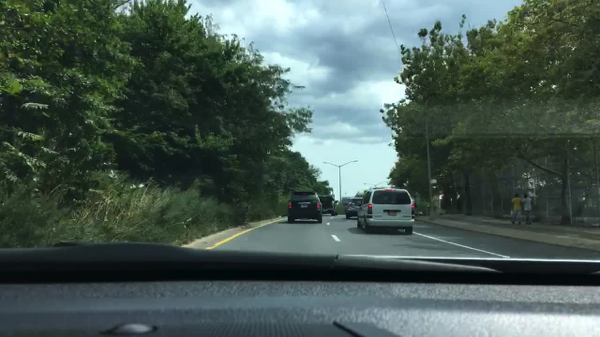car: (356, 185, 413, 235), (287, 191, 323, 223), (318, 195, 337, 215), (345, 198, 362, 220), (415, 211, 424, 217)
person: (510, 194, 521, 225), (522, 194, 531, 225)
traffic sign: (341, 198, 352, 205), (429, 180, 436, 184)
